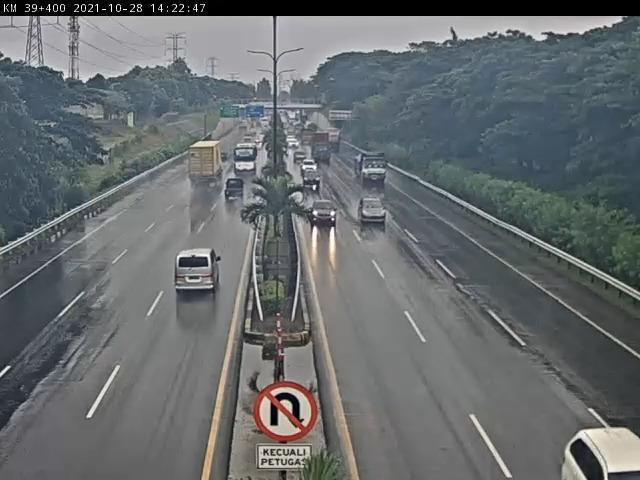Bus: (227, 147, 259, 183)
